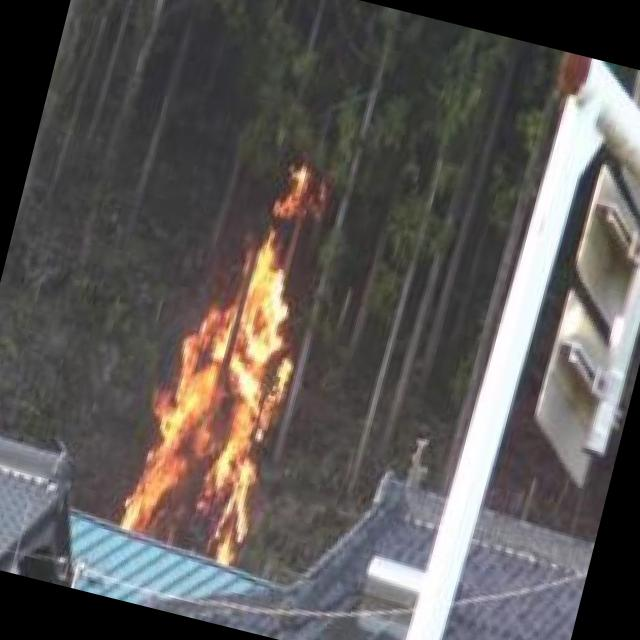Fire: (112, 143, 362, 575)
